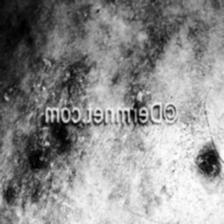Potentially Malignant Skin Tumors: (0, 131, 74, 220), (187, 139, 224, 181), (63, 64, 97, 96), (125, 84, 150, 106)
